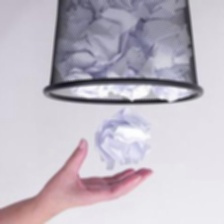tissue: (59, 0, 188, 102), (88, 104, 159, 176)
